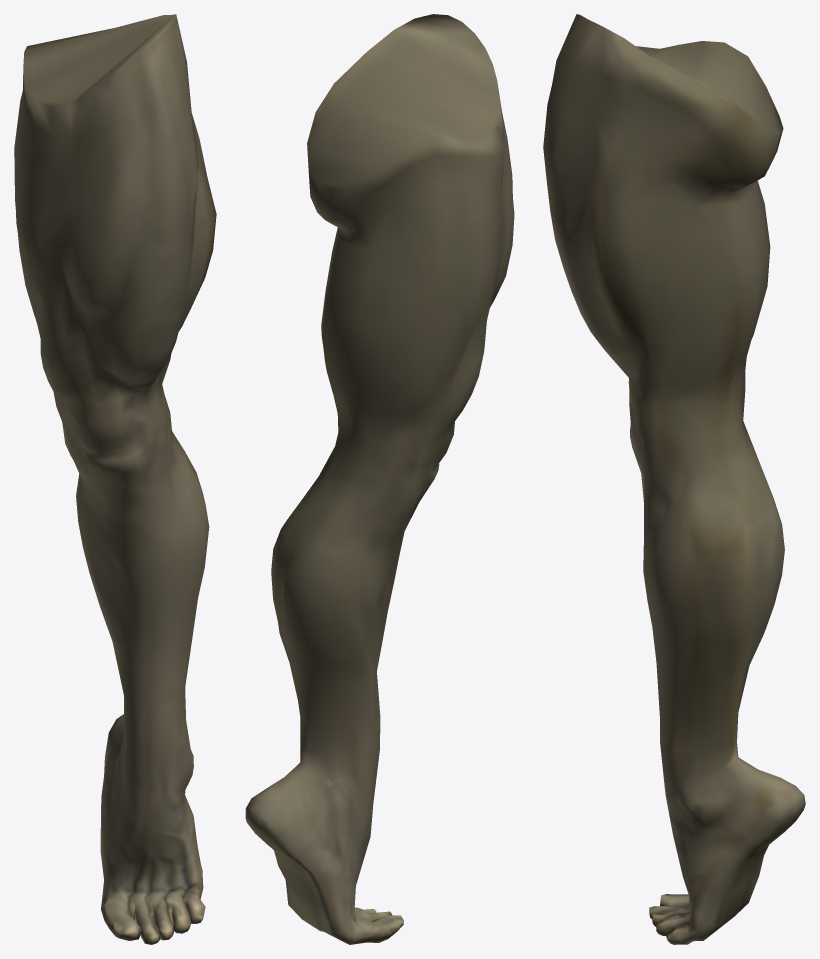
Rendered from tripo-leg-one.glb.
3 renders of one model, left to right at view 1: azimuth 30°, elevation 25°; view 2: azimuth 150°, elevation 25°; view 3: azimuth 270°, elevation 25°, orthographic. The views are drawn at different scales.
Visible parts, largest first — view 1: tripo-leg-one; view 2: tripo-leg-one; view 3: tripo-leg-one.
Part boxes in pixels (box(x1,y1,x2,y2)): tripo-leg-one: box(14, 14, 216, 944); tripo-leg-one: box(245, 14, 514, 944); tripo-leg-one: box(543, 14, 805, 944).
Bounding box in the file's own units: 0.22 × 0.98 × 0.2607.
1 material, 1 textured.
